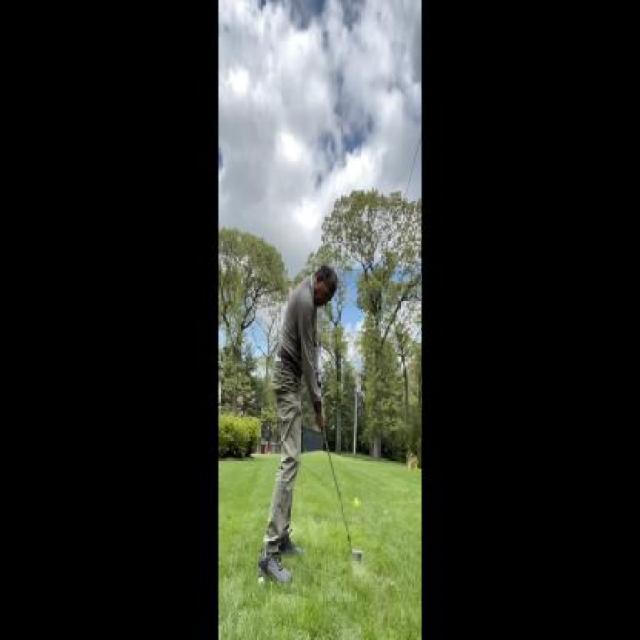club head: (346, 532, 365, 566)
